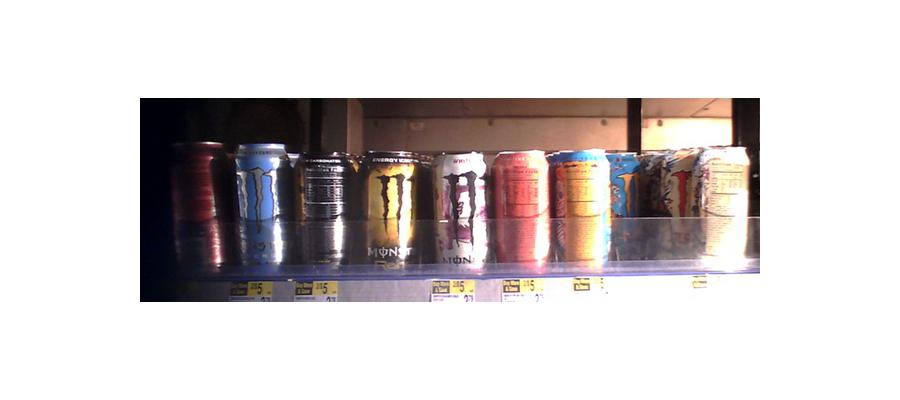bottle: (230, 143, 290, 275), (359, 150, 424, 268), (170, 137, 229, 266), (489, 149, 549, 270), (294, 155, 351, 276), (553, 148, 609, 271), (432, 150, 486, 273), (699, 142, 749, 263), (654, 146, 702, 263), (612, 153, 649, 263)
